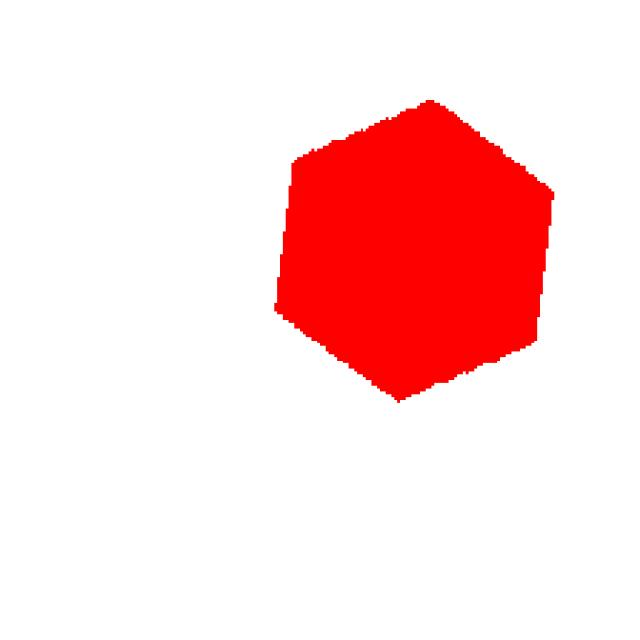Hexagon: (242, 74, 577, 437)
